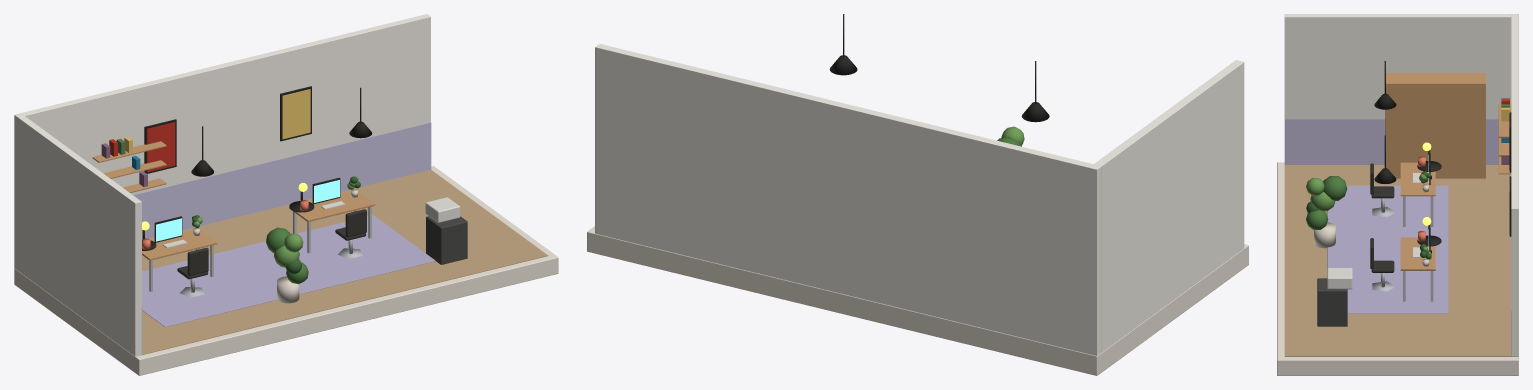
The picture shows the model from 3 angles, left to right: view 1: azimuth 30°, elevation 25°; view 2: azimuth 150°, elevation 25°; view 3: azimuth 270°, elevation 25°; orthographic projection. The views are drawn at different scales.
Parts seen in each view (by area): view 1: LM_P2, Cube.012, Cube.023; view 2: LM_P2; view 3: LM_P2.
Boxes of the visible parts, box(x1,y1,x2,y2) form: LM_P2: box(14, 14, 558, 375); Cube.012: box(156, 218, 181, 241); Cube.023: box(314, 180, 339, 202); LM_P2: box(587, 14, 1248, 375); LM_P2: box(1277, 14, 1518, 375).
Size of the model in its own units: 9.3 by 3.8 by 4.8.
